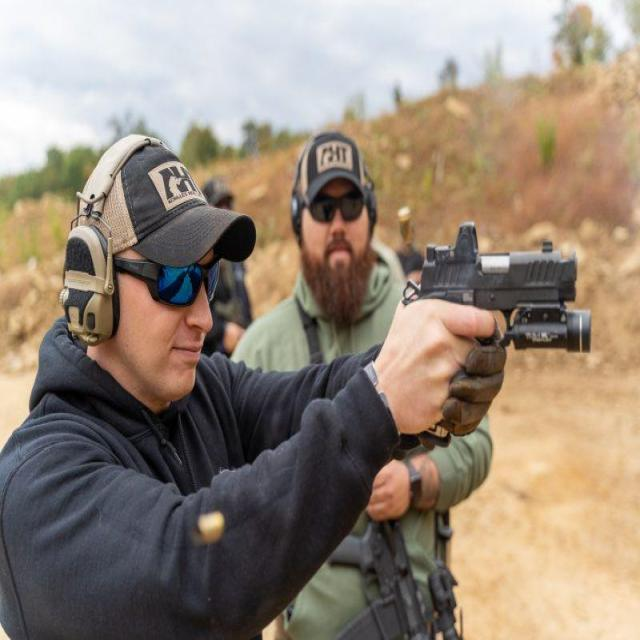gun: (418, 222, 591, 353)
